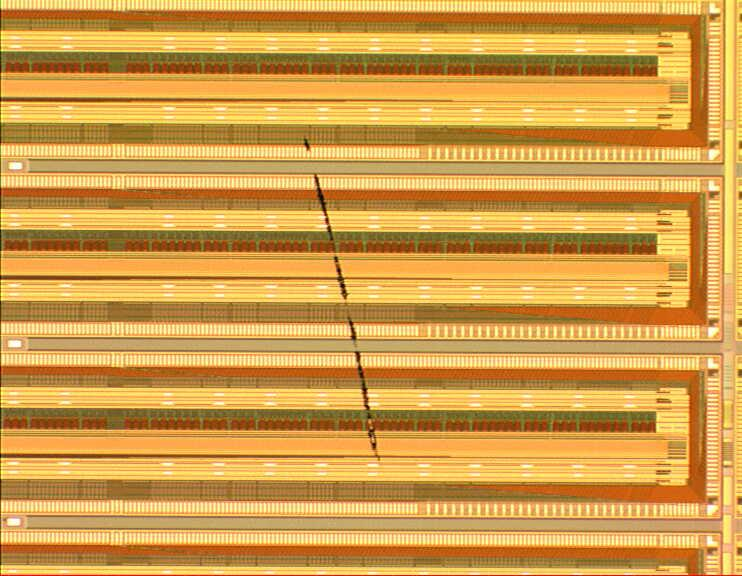SCRATCH: (296, 126, 389, 467)
